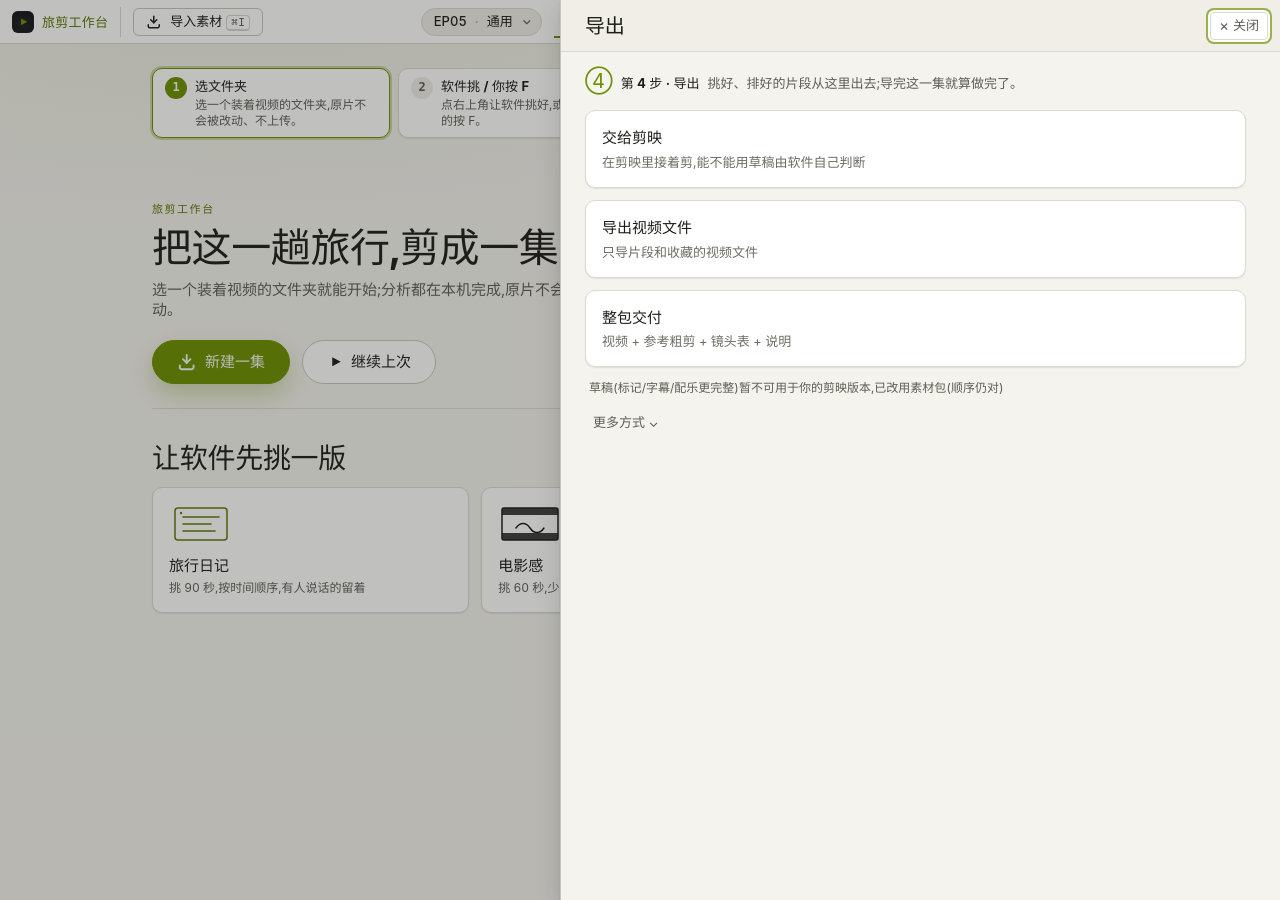
Test case: 导出结束的 Toast › 部分失败 → 顶部 toast「6 个导好了,3 个没导出来」+「只重试这 3 个」→ quickExport(lastDir, { clip_ids })
The width and height of the screenshot is (1280, 900).
// R19 U-06/P-04:首屏三卡,点「导出视频文件」直接落在快速导出模式。
Click the button "导出视频文件 只导片段和收藏的视频文件" at (647, 227), box top-left (585, 200), bottom-right (1246, 278)
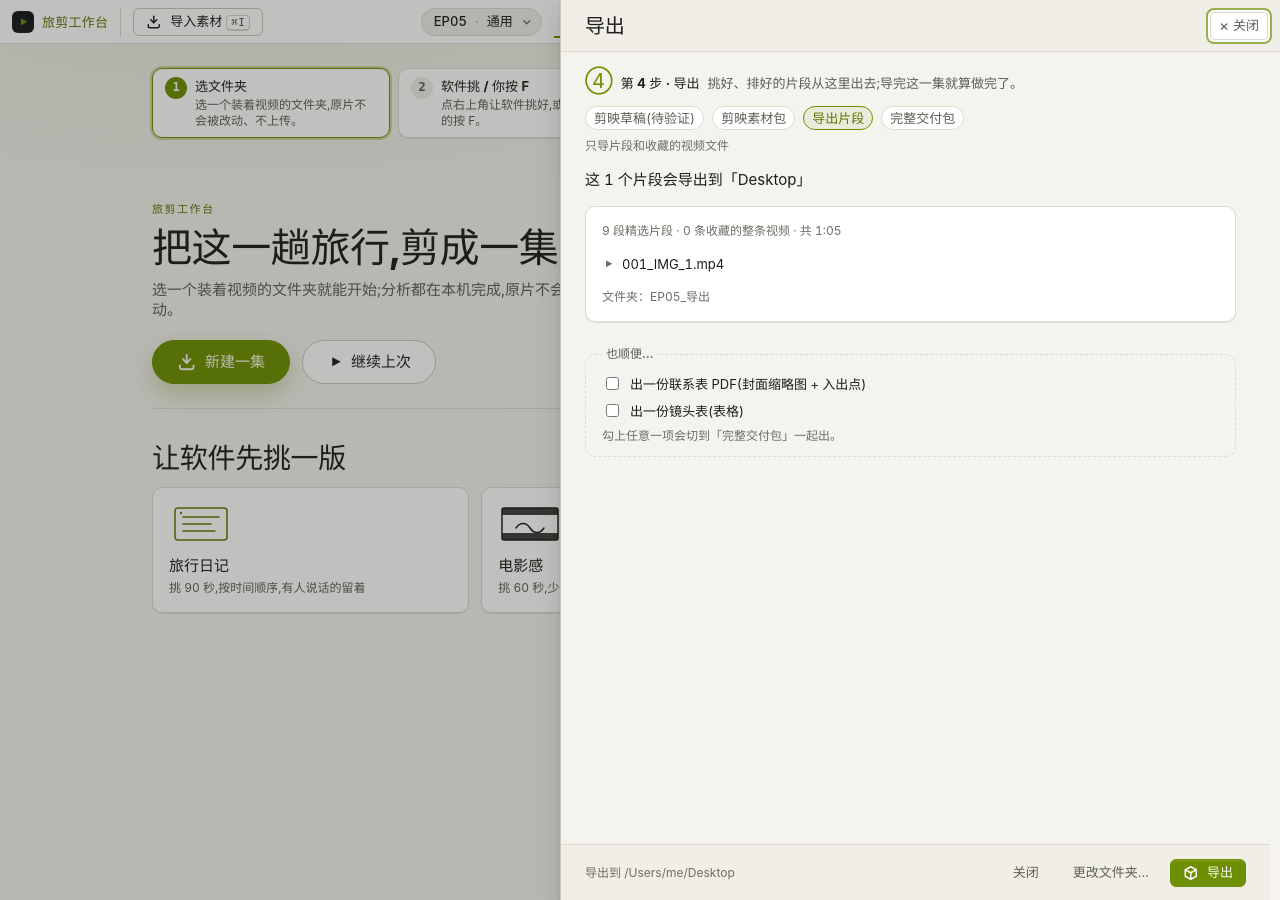
Expected: the text "001_IMG_1.mp4" is shown, top-left (622, 255), bottom-right (724, 273)
Click the button with aria-label "导出到上次文件夹" at (1208, 872), box top-left (1170, 858), bottom-right (1246, 886)
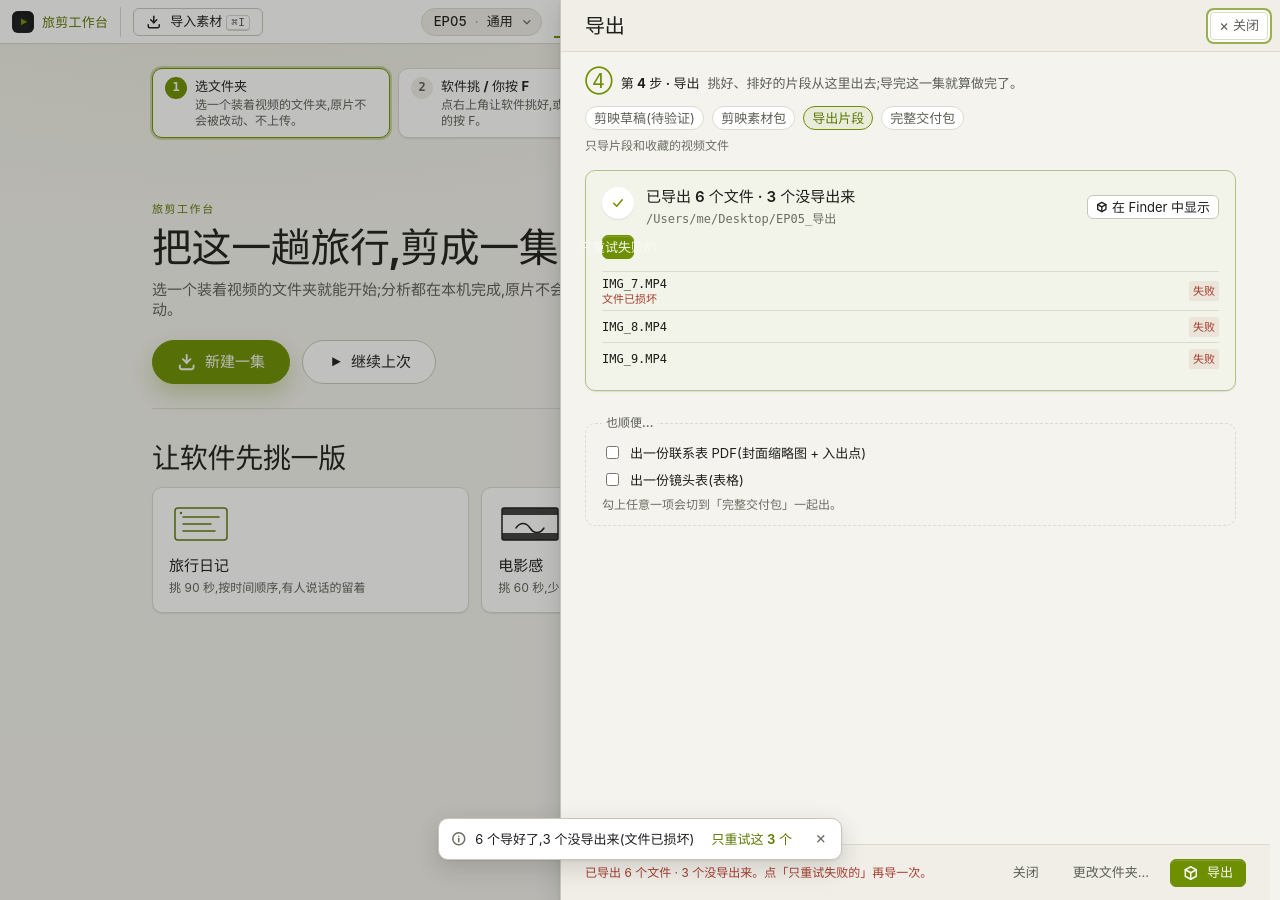
Click the button "只重试这 3 个" at (752, 839), box top-left (702, 827), bottom-right (801, 851)
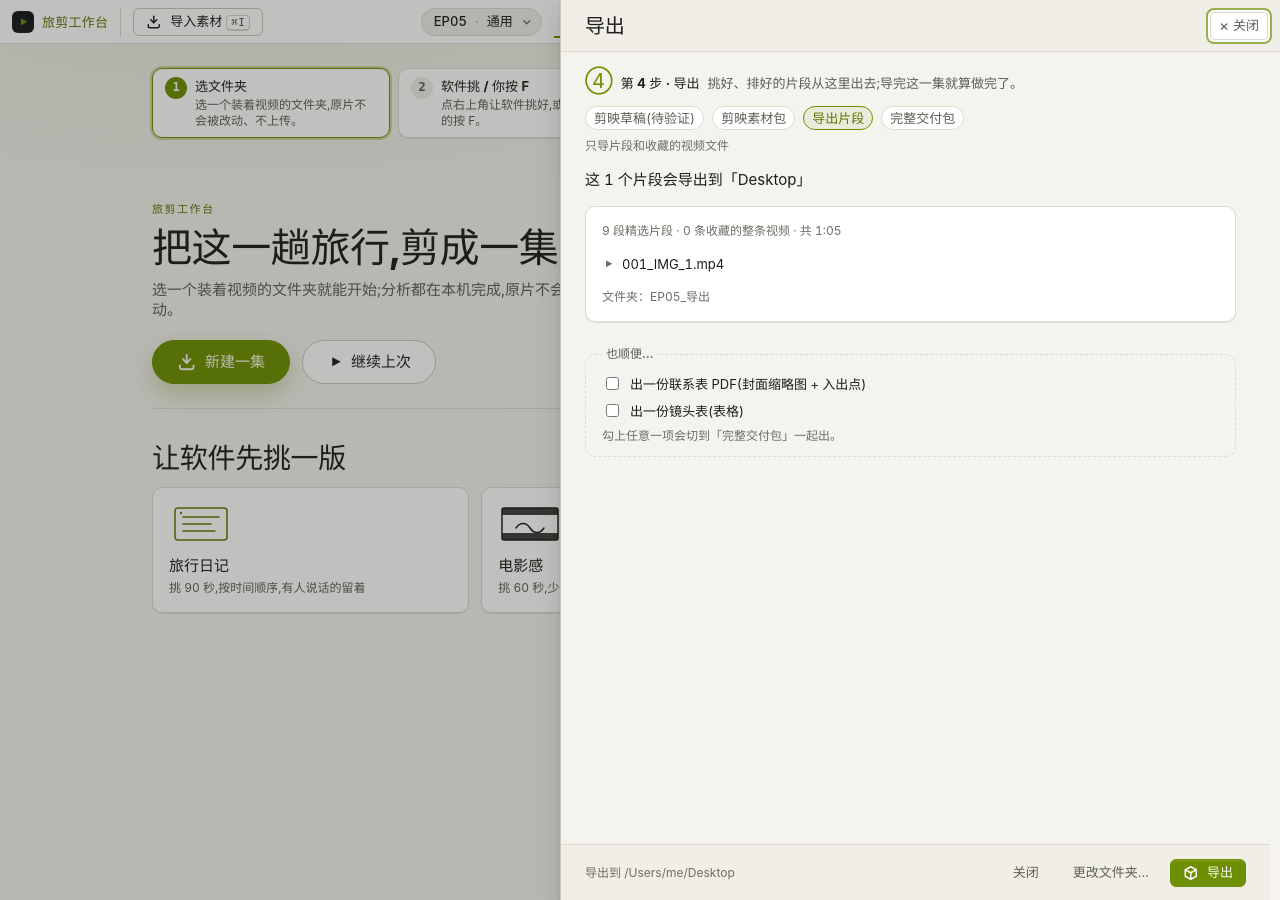
Expected: the text "6 个导好了,3 个没导出来" is gone
